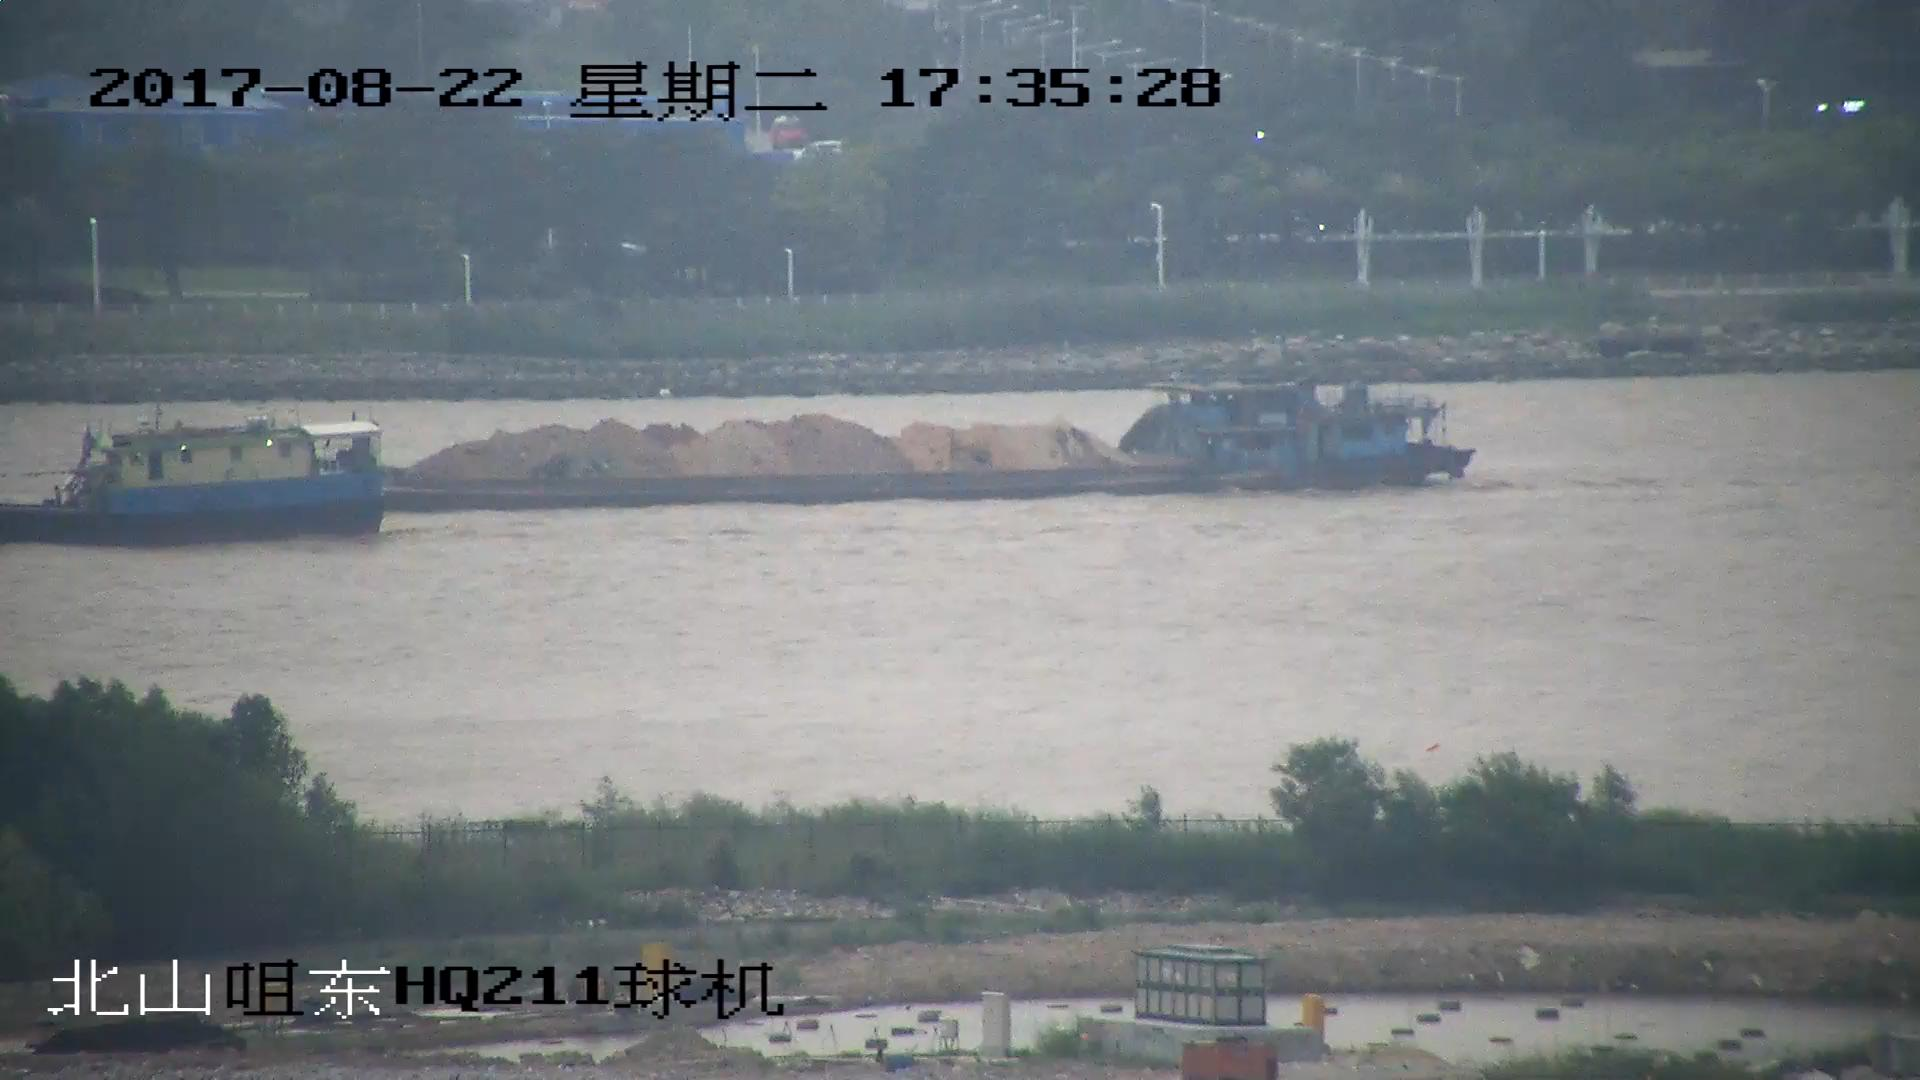fishing boat: (1, 418, 399, 544)
ore carrier: (1, 371, 1476, 501)
